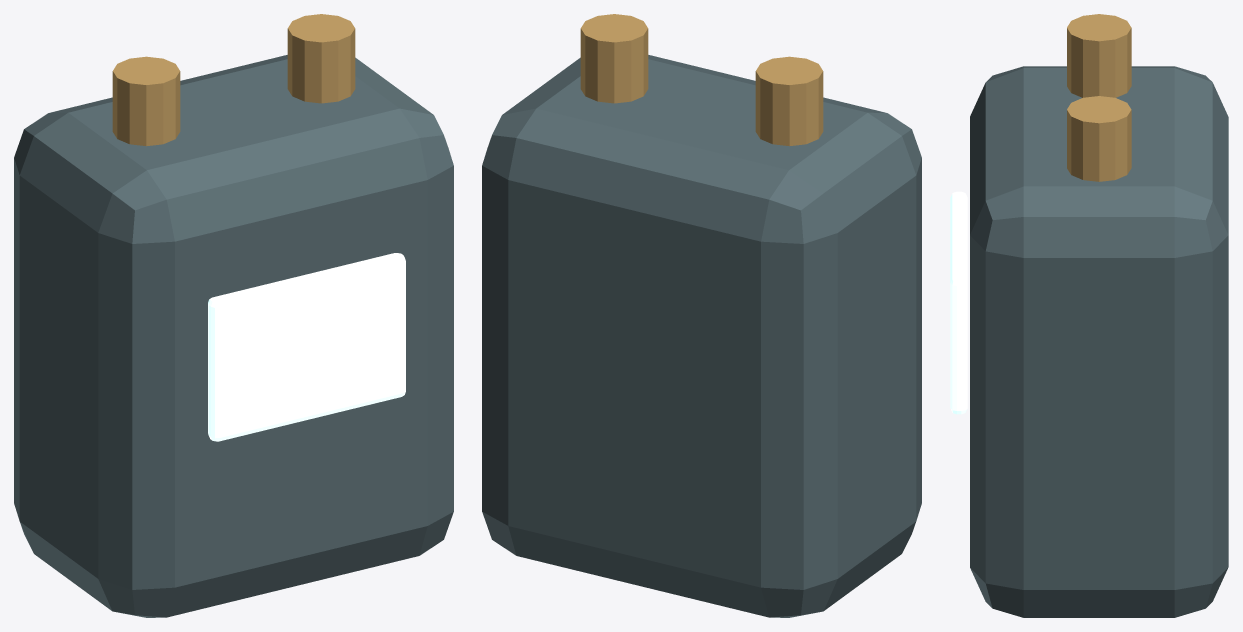
Rendered from battery.glb.
3 renders of one model, left to right at view 1: azimuth 30°, elevation 25°; view 2: azimuth 150°, elevation 25°; view 3: azimuth 270°, elevation 25°, orthographic. The views are drawn at different scales.
Visible parts, largest first — view 1: Cell housing, Indicator, Terminal.001, Terminal; view 2: Cell housing, Terminal.001, Terminal; view 3: Cell housing, Terminal.001, Terminal, Indicator.
Boxes of the visible parts, x1,y1,x2,y2 form: Cell housing: (14,55,453,617); Indicator: (208,253,405,441); Terminal.001: (287,14,355,103); Terminal: (112,56,180,146); Cell housing: (482,55,921,617); Terminal.001: (580,14,648,103); Terminal: (755,56,823,146); Cell housing: (970,66,1228,617); Terminal.001: (1067,96,1131,181); Terminal: (1067,14,1131,97); Indicator: (950,191,967,414).
Bounding box in the file's own units: 0.18 × 0.25 × 0.129.
